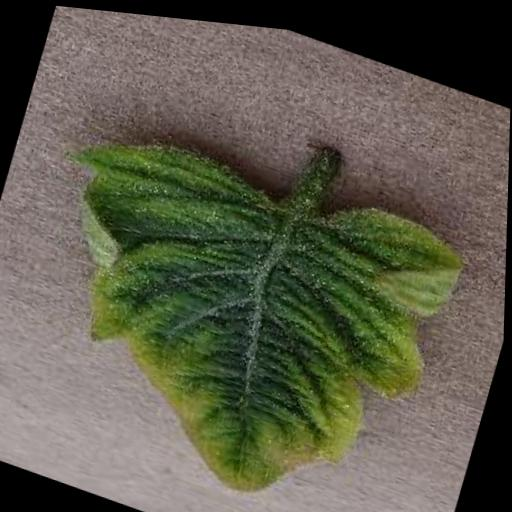Yellow Leaf Curl Virus: (0, 96, 477, 512)
